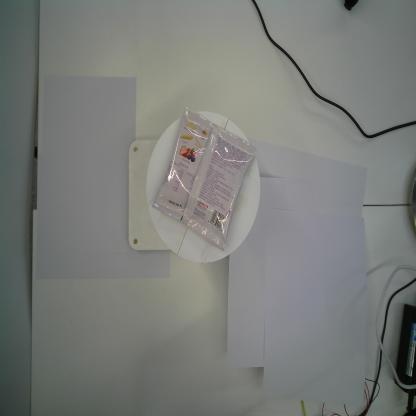Instant Drink: (151, 107, 257, 252)
